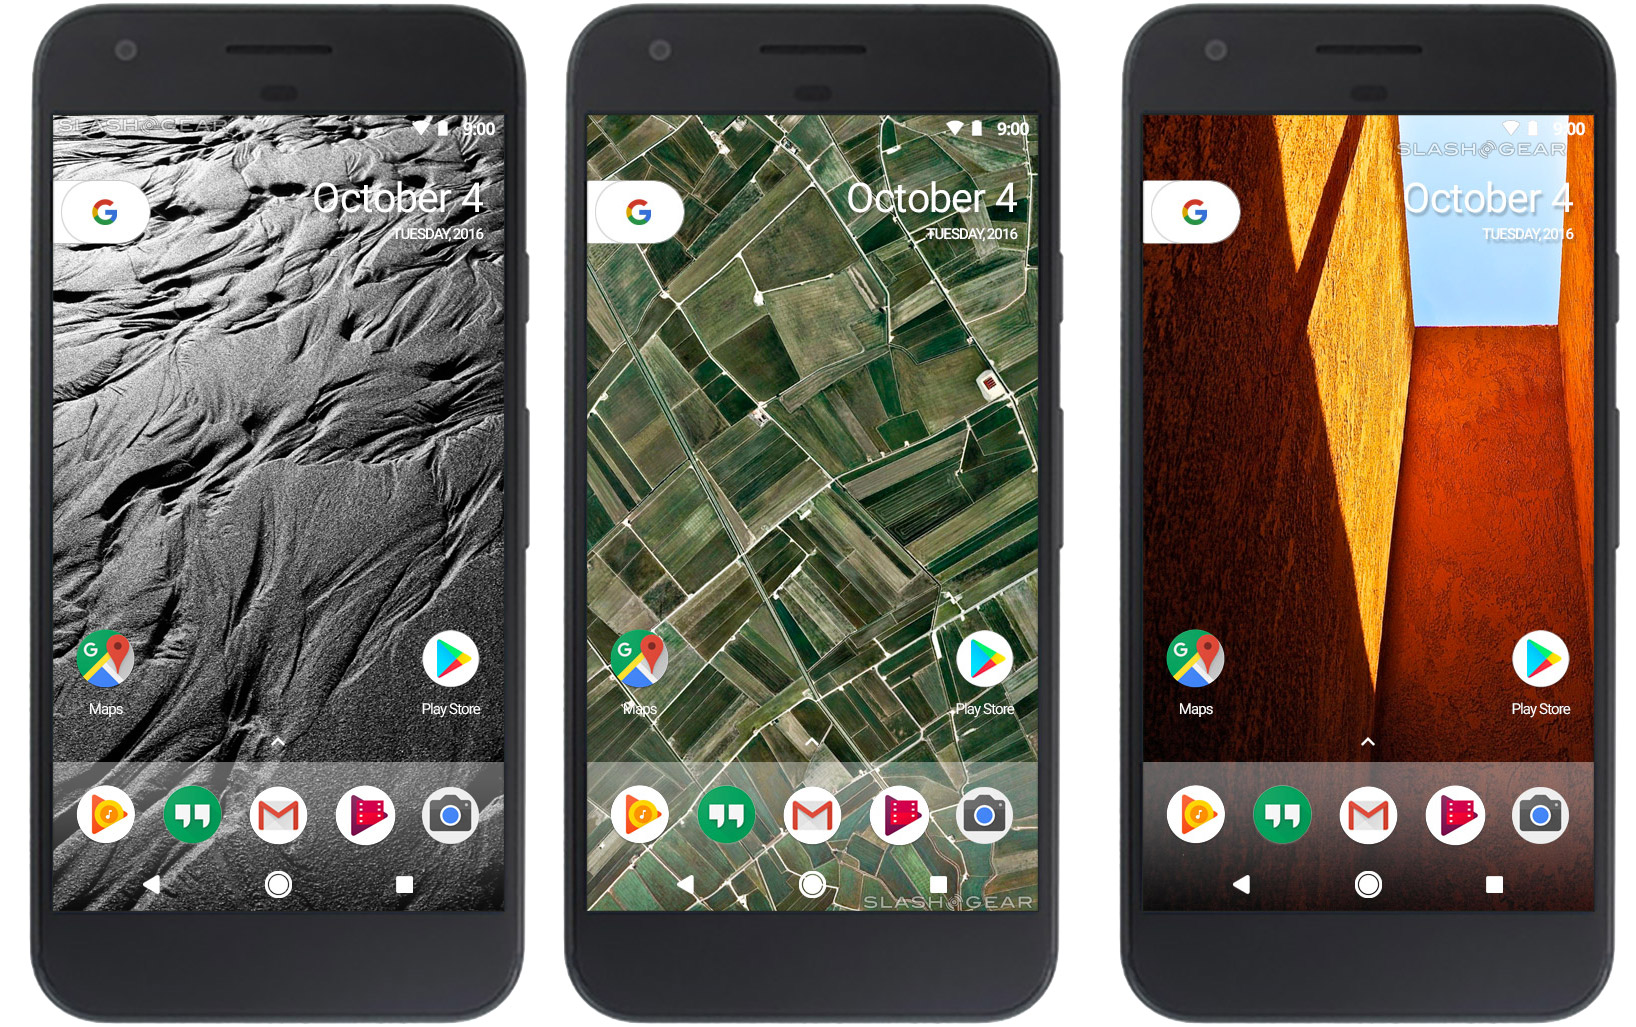smartphone: (562, 2, 1065, 1023), (1118, 2, 1621, 1023), (30, 2, 529, 1023)
